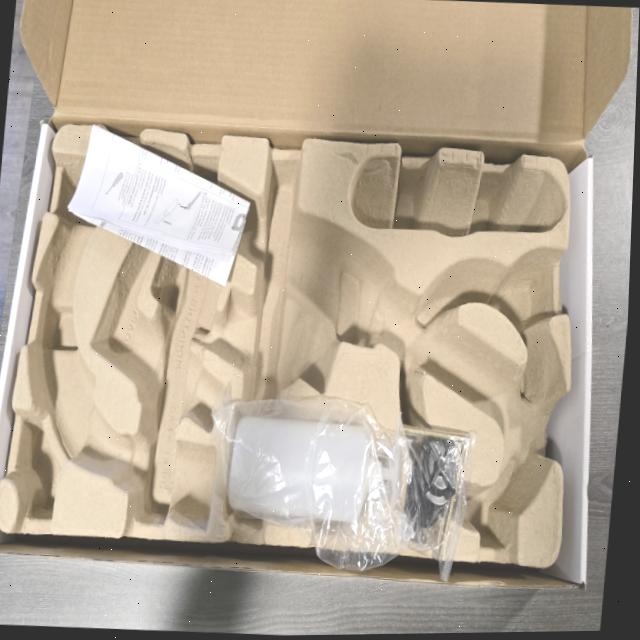1m: (27, 142, 569, 526)
2m: (92, 210, 224, 431)
3: (227, 415, 397, 531)
4m: (350, 153, 568, 239)
5m: (498, 259, 547, 328)
6m: (472, 447, 535, 549)
7: (399, 420, 477, 583)
8: (68, 120, 251, 285)
